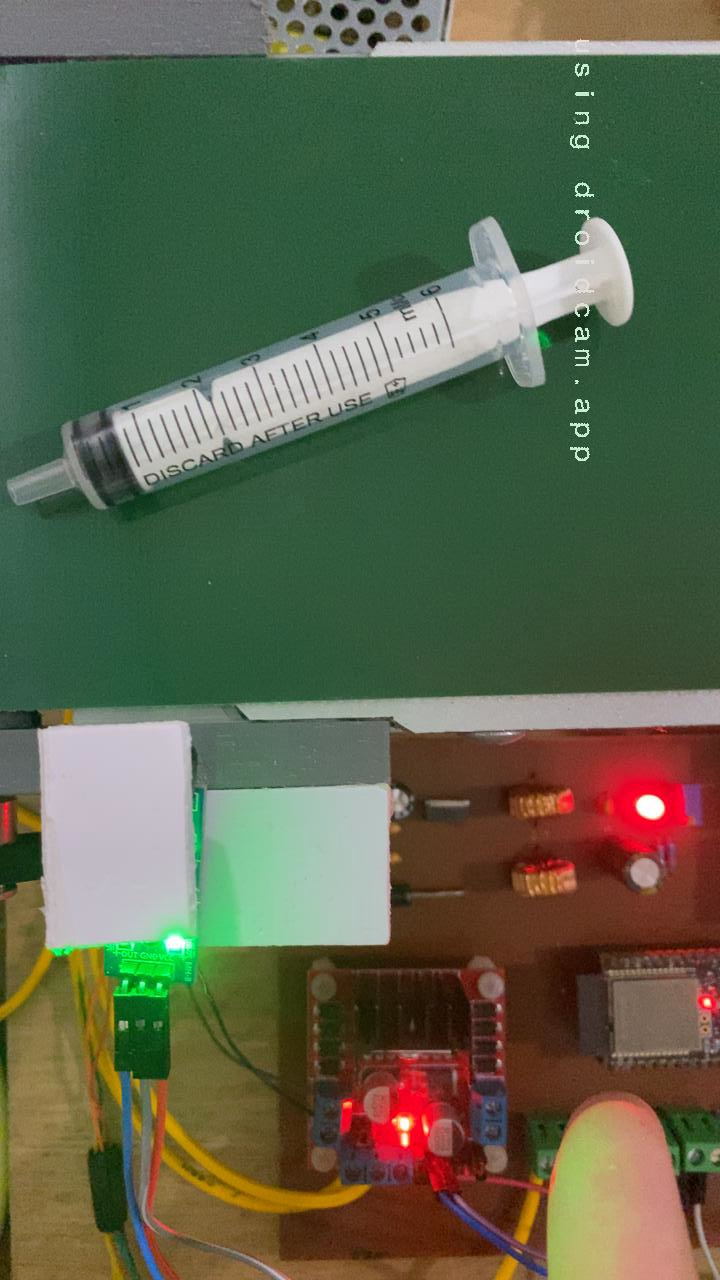syringe: (3, 203, 643, 516)
